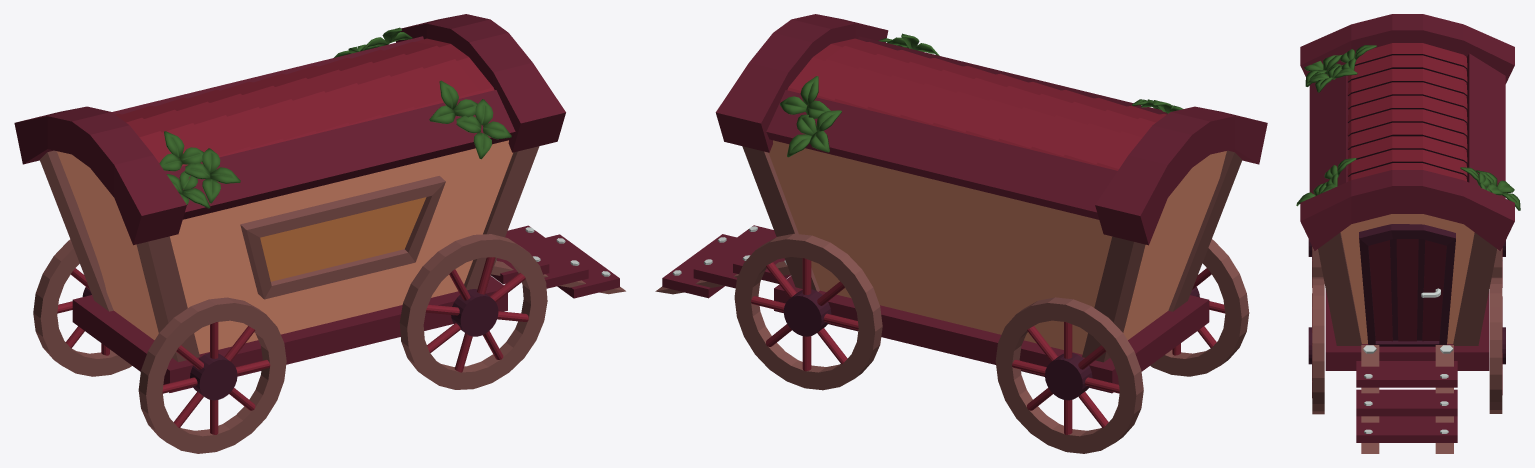
Rendered from Carroça-Grande.fbx.
3 views of the same model, side by side, from view 1: azimuth 30°, elevation 25°; view 2: azimuth 150°, elevation 25°; view 3: azimuth 270°, elevation 25° (orthographic). The views are drawn at different scales.
Parts seen in each view (by area): view 1: Cube; view 2: Cube; view 3: Cube.
Boxes of the visible parts, bbox=[...] form: Cube: bbox=[14, 14, 625, 453]; Cube: bbox=[655, 14, 1267, 453]; Cube: bbox=[1296, 14, 1520, 453].
Size of the model in its own units: 3.66 by 2.02 by 1.62.
